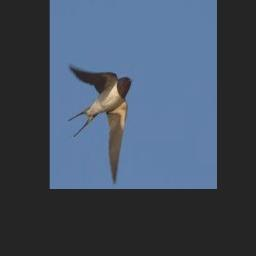Swallow: (67, 65, 132, 185)
